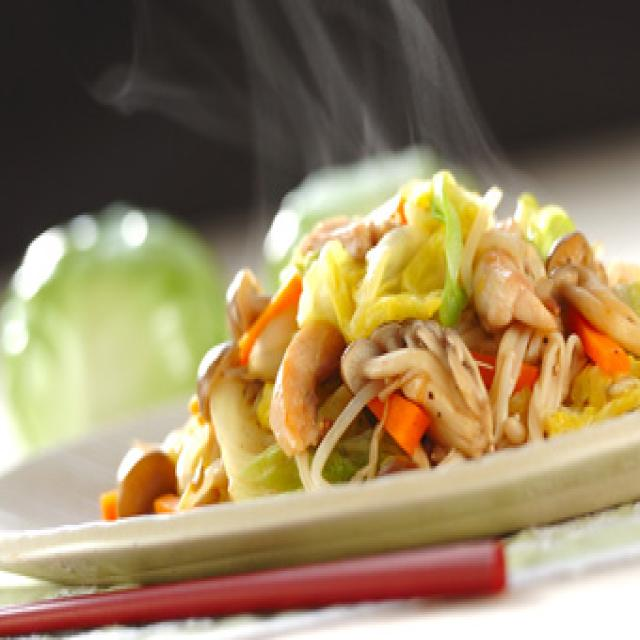蔬菜料理: (115, 148, 640, 510)
